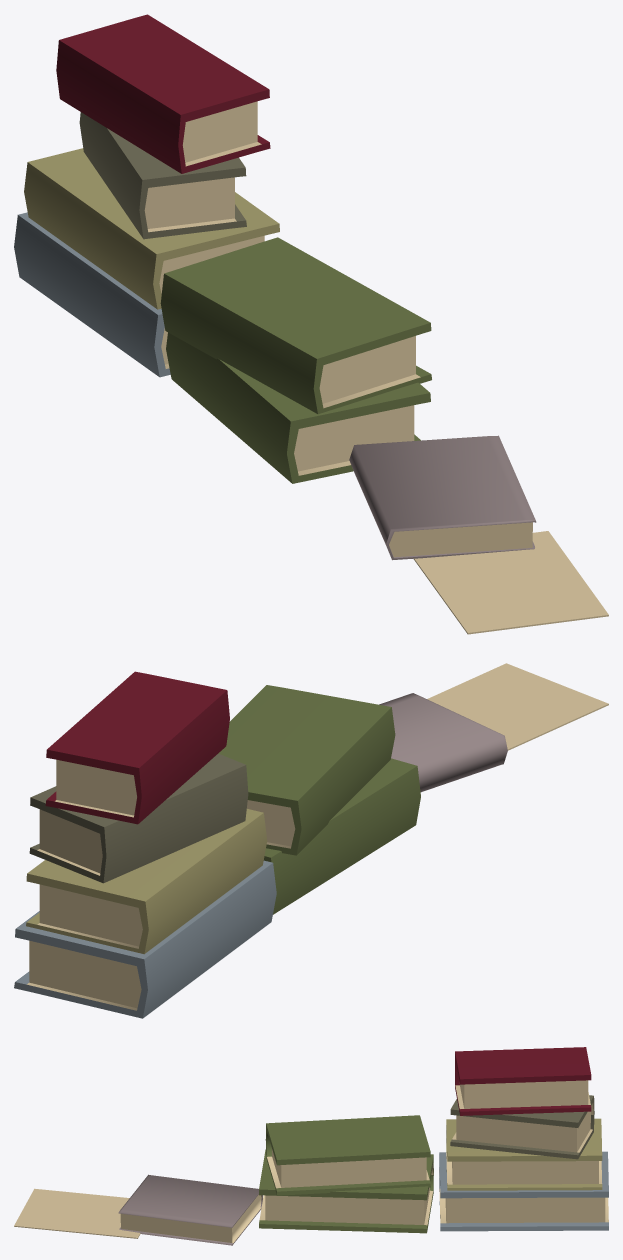
The model's file is stacks of books.fbx.
The picture shows the model from 3 angles, top to bottom: view 1: azimuth 30°, elevation 25°; view 2: azimuth 150°, elevation 25°; view 3: azimuth 270°, elevation 25°; orthographic projection. The views are drawn at different scales.
Parts seen in each view (by area): view 1: Cube.009; view 2: Cube.009; view 3: Cube.009.
Part boxes in pixels (box(x1,y1,x2,y2)): Cube.009: box(14, 14, 608, 634); Cube.009: box(14, 663, 608, 1018); Cube.009: box(14, 1047, 608, 1245).
Bounding box in the file's own units: 20.79 × 26 × 90.19.
